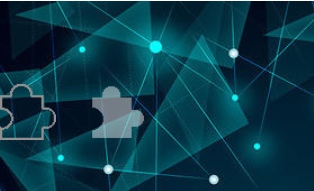target: (86, 84, 145, 142)
